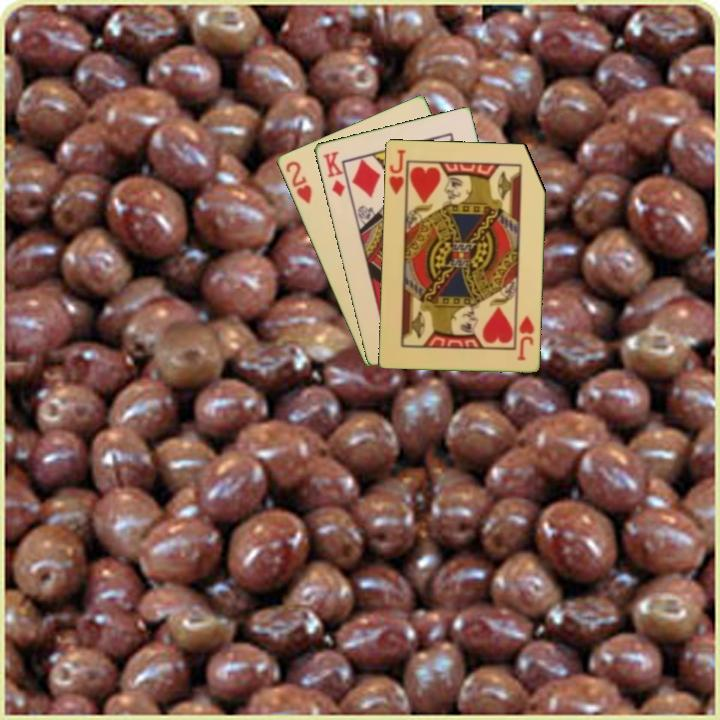2h: (281, 157, 315, 207)
Jh: (385, 146, 411, 202), (513, 312, 537, 363)
Kd: (319, 147, 348, 200)
